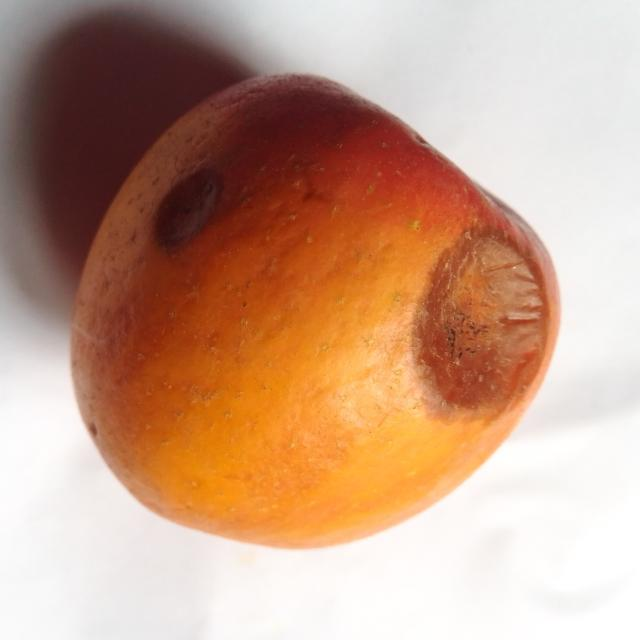apple: (73, 76, 558, 547)
